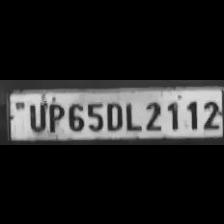1: (162, 97, 182, 131), (182, 96, 198, 130)
2: (140, 97, 164, 131), (199, 96, 221, 130)
5: (84, 97, 104, 130)
6: (64, 98, 84, 132)
D: (104, 99, 122, 131)
L: (122, 98, 140, 130)
P: (45, 98, 65, 132)
U: (25, 98, 48, 132)
